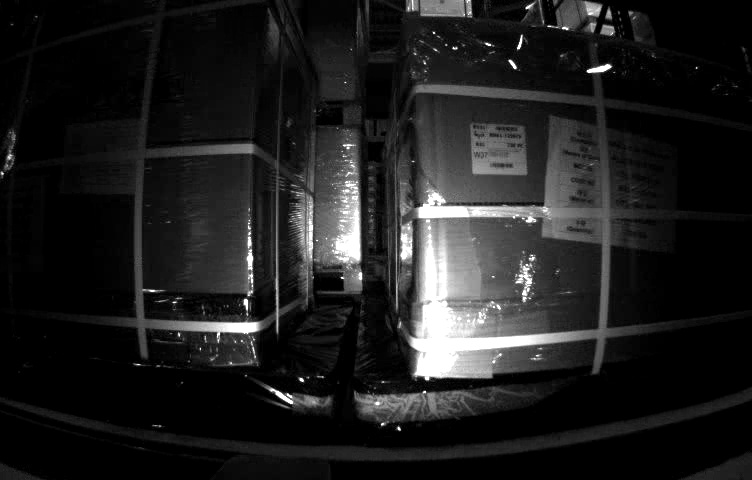True Barcode: (472, 122, 531, 178)
